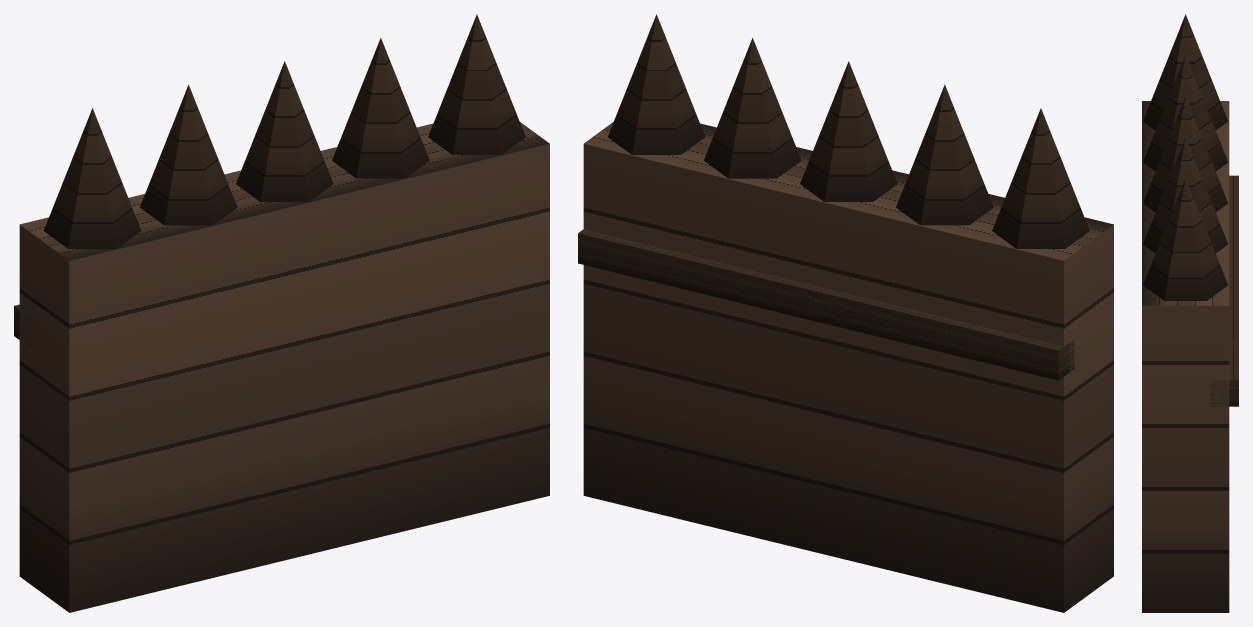
File: palisade.glb
3 views of the same model, side by side, from view 1: azimuth 30°, elevation 25°; view 2: azimuth 150°, elevation 25°; view 3: azimuth 270°, elevation 25° (orthographic). The views are drawn at different scales.
Parts seen in each view (by area): view 1: palisade; view 2: palisade; view 3: palisade.
Part boxes in pixels (x1,y1,x2,y2): palisade: [14, 14, 549, 612]; palisade: [578, 14, 1113, 612]; palisade: [1142, 14, 1238, 612].
Bounding box in the file's own units: 1 × 0.945 × 0.2.
Materials: 1 (1 with a texture image).
